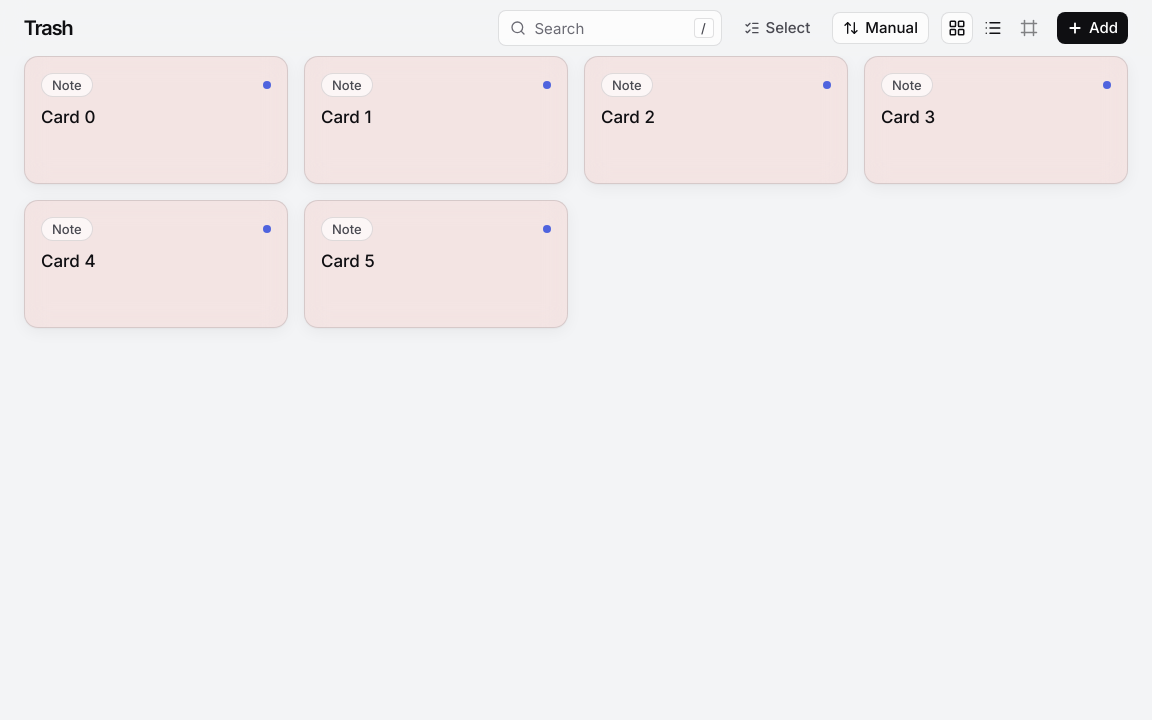
Test: Board selection › offers restore, archive and delete forever in the trash
The width and height of the screenshot is (1152, 720).
What coordinates should you click on to do the following:
click the button "Select"
I would click on:
 (777, 28)
Its box is [734,12,820,44].
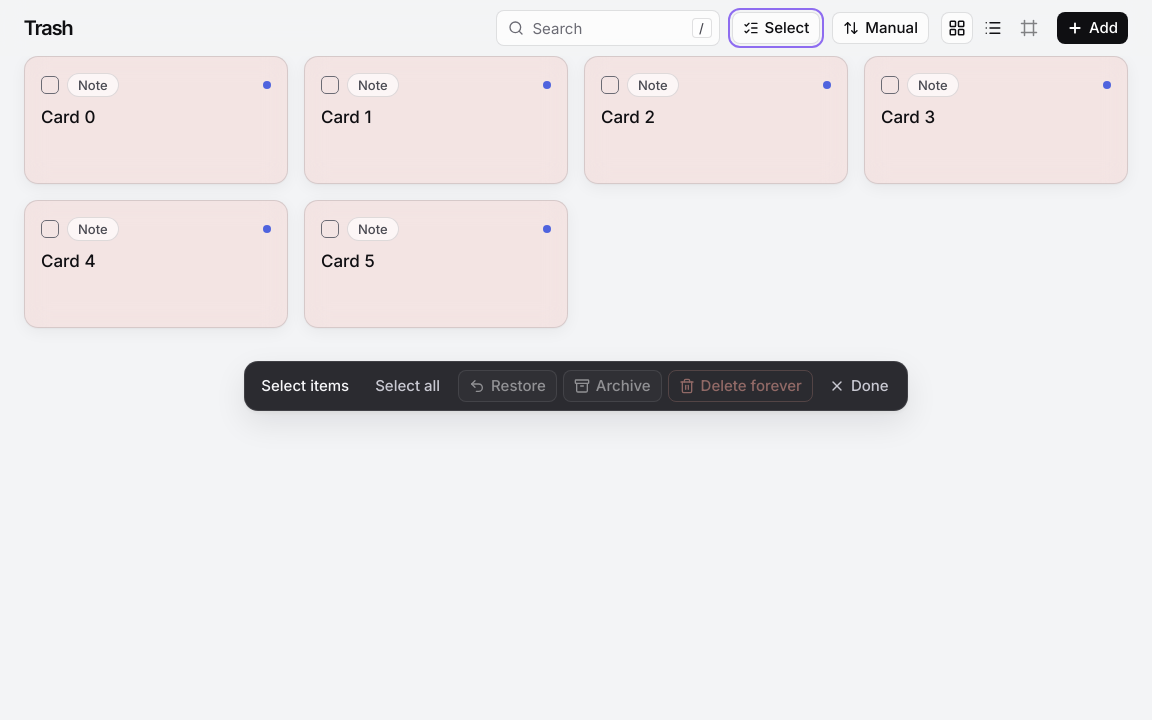
What coordinates should you click on to do the following:
click the button "Select all"
I would click on:
 (408, 386)
Its box is [363,370,452,402].
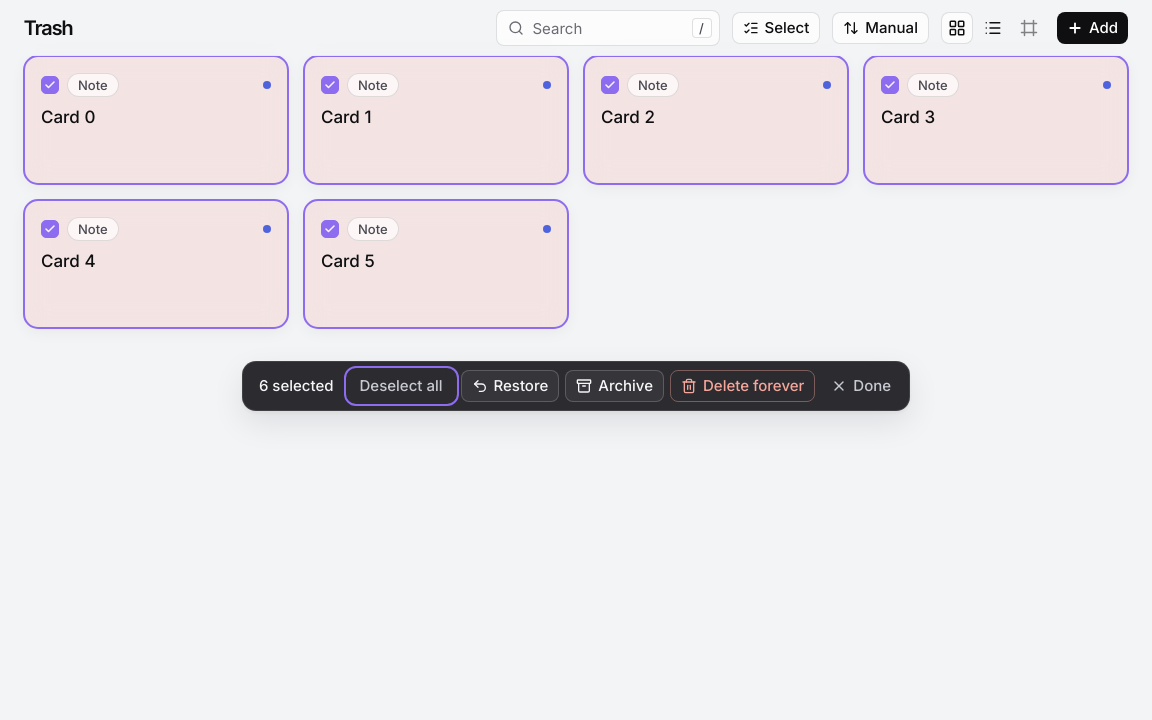
Expected: the button "Restore" is enabled, [460,370,559,402]
Expected: the button "Archive" is enabled, [565,370,664,402]
What coordinates should you click on to do the following:
click the button "Delete forever"
I would click on:
 (743, 386)
Its box is [670,370,815,402].
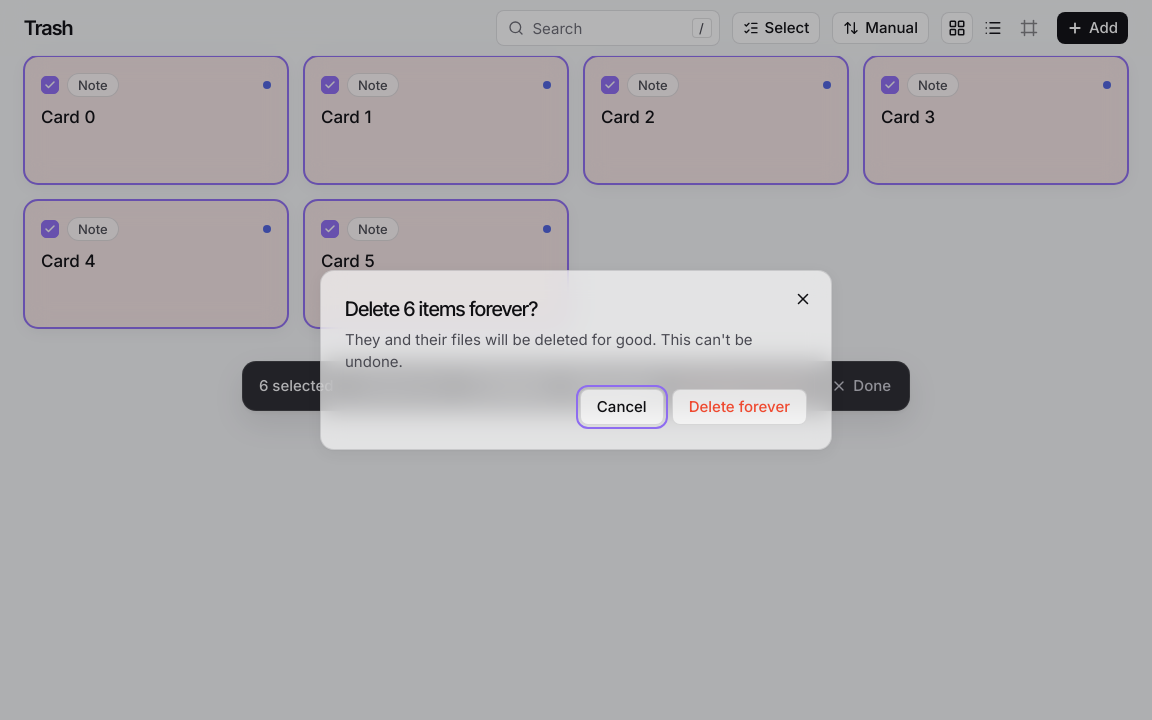
Expected: the dialog shows "Delete 6 items forever?", [345,297,538,321]
